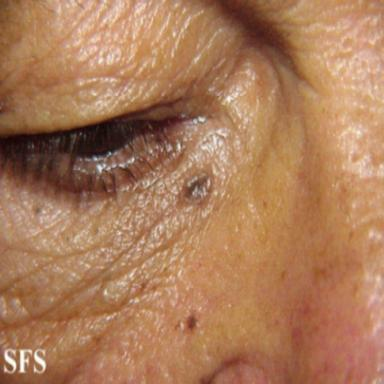basal-cell-carcinoma: (181, 170, 211, 203)
